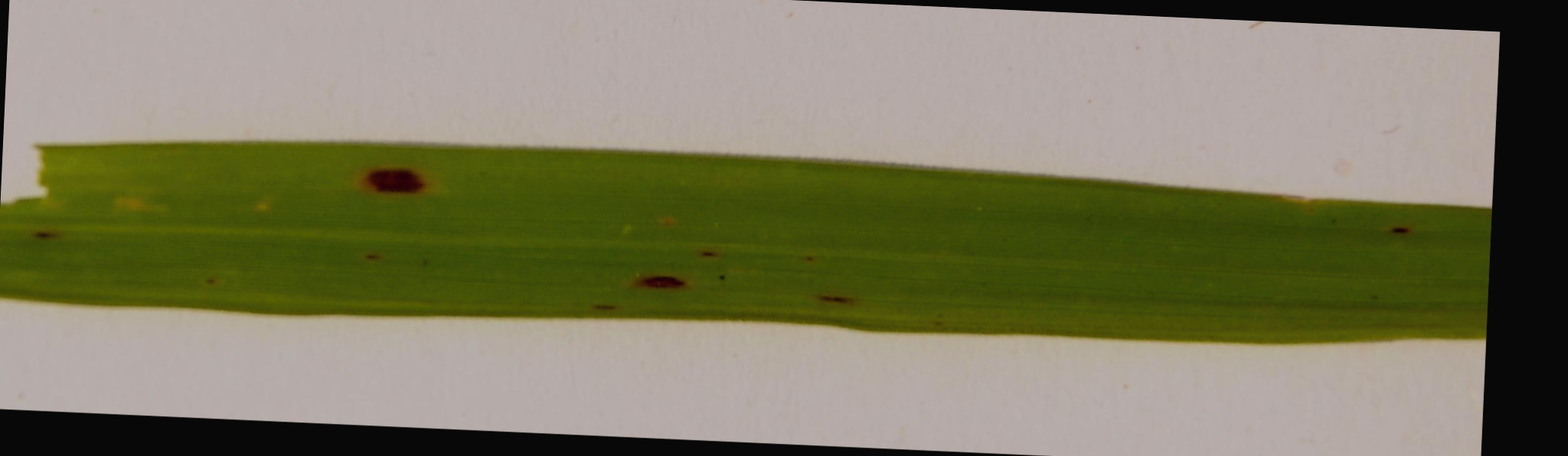Bacterial_Leaf_Blight: (336, 147, 463, 210), (607, 254, 716, 306), (12, 209, 82, 266), (805, 281, 873, 317), (1371, 211, 1429, 247)
